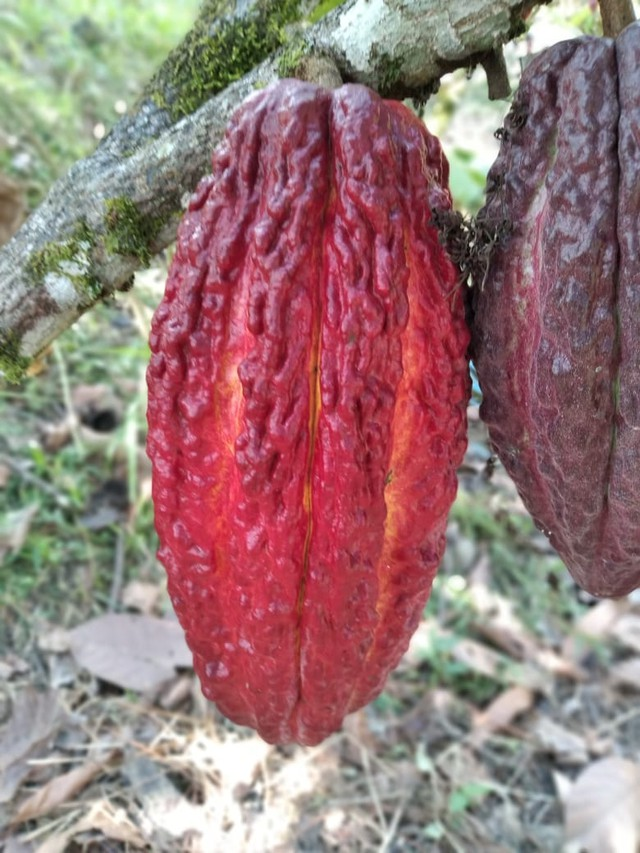Health: (140, 64, 479, 764), (476, 26, 635, 598)
